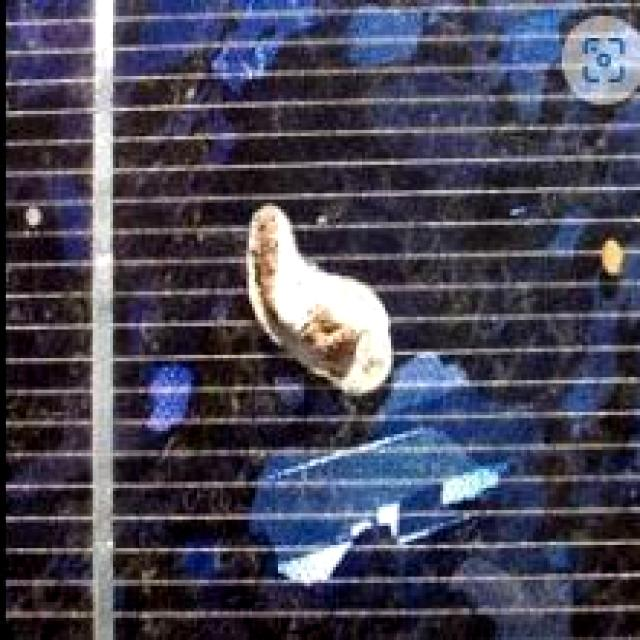bird: (210, 201, 416, 396), (588, 215, 630, 287), (20, 190, 79, 238)
